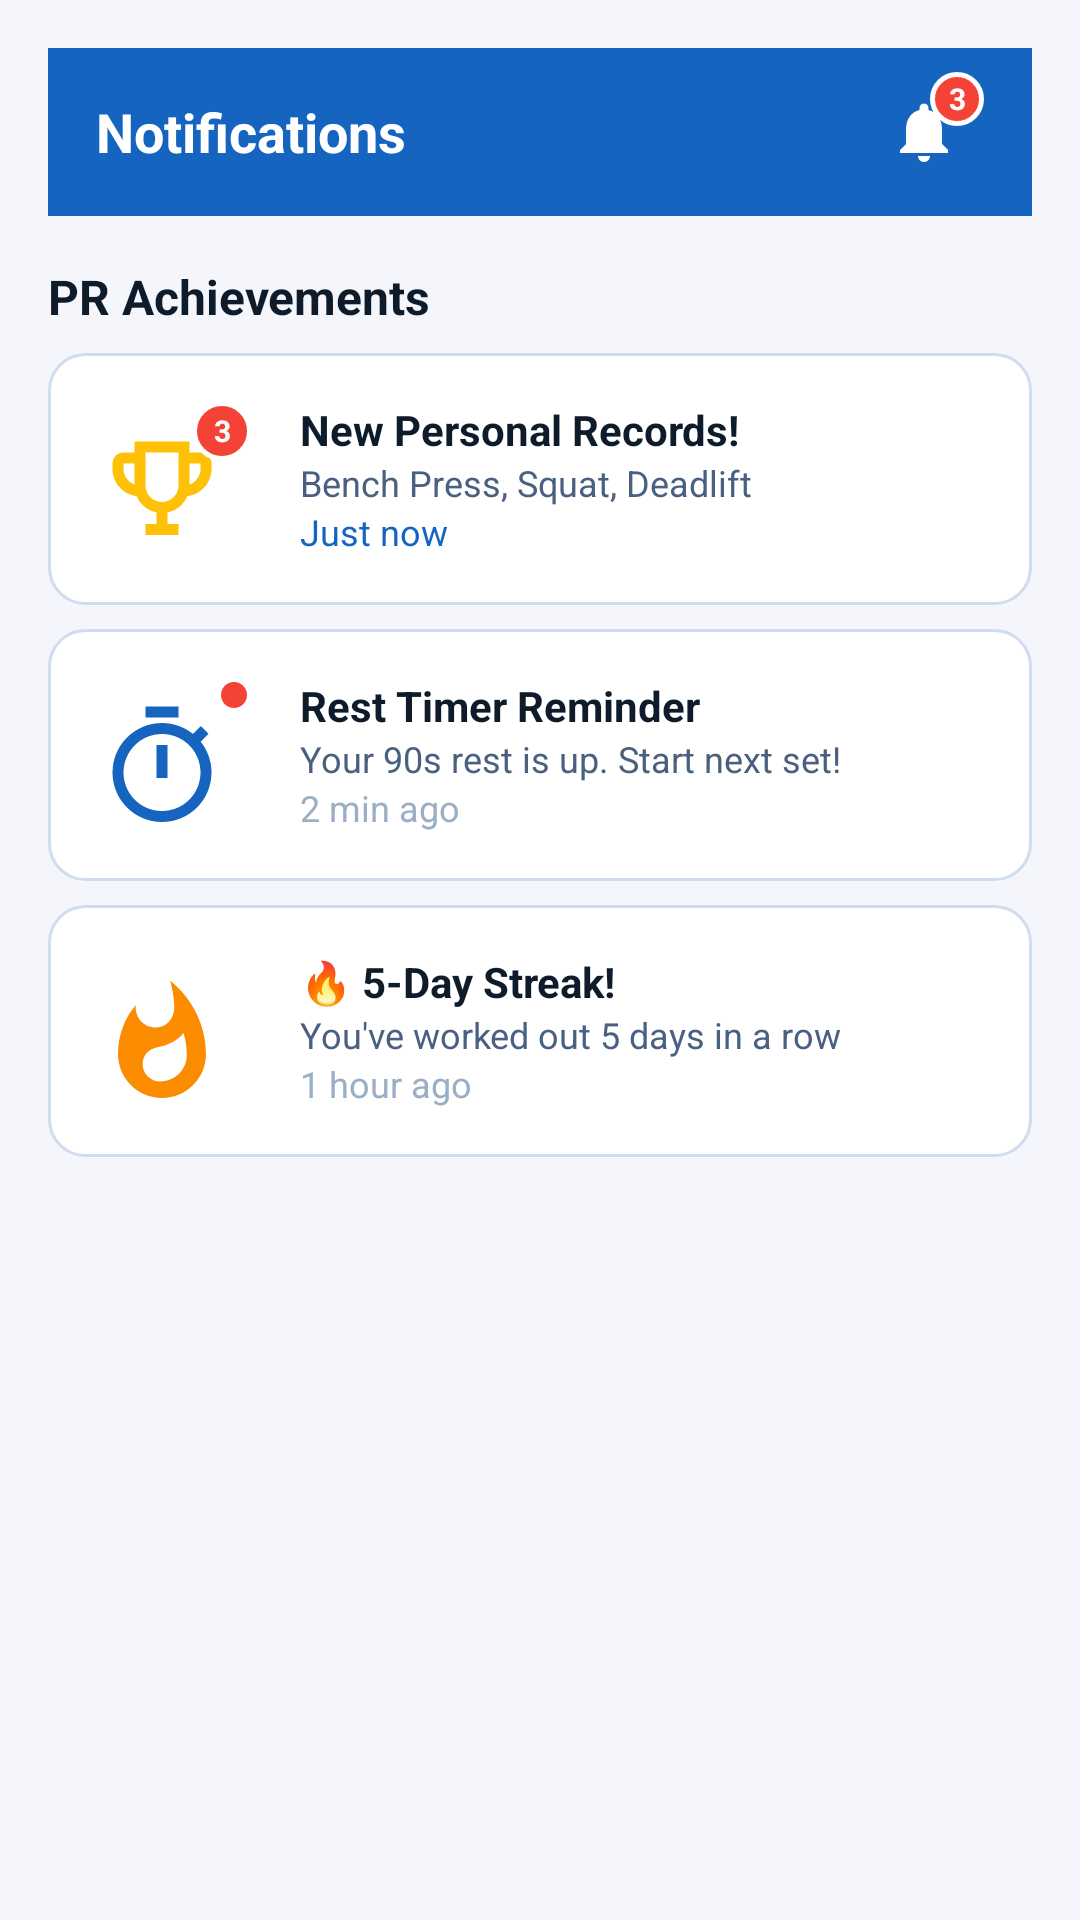

Screen size 1080px x 1920px. Icon name, then its box in pixels as (x1,y1,x2,y2):
fire: (118,981,206,1098)
trophy: (112,441,212,535)
